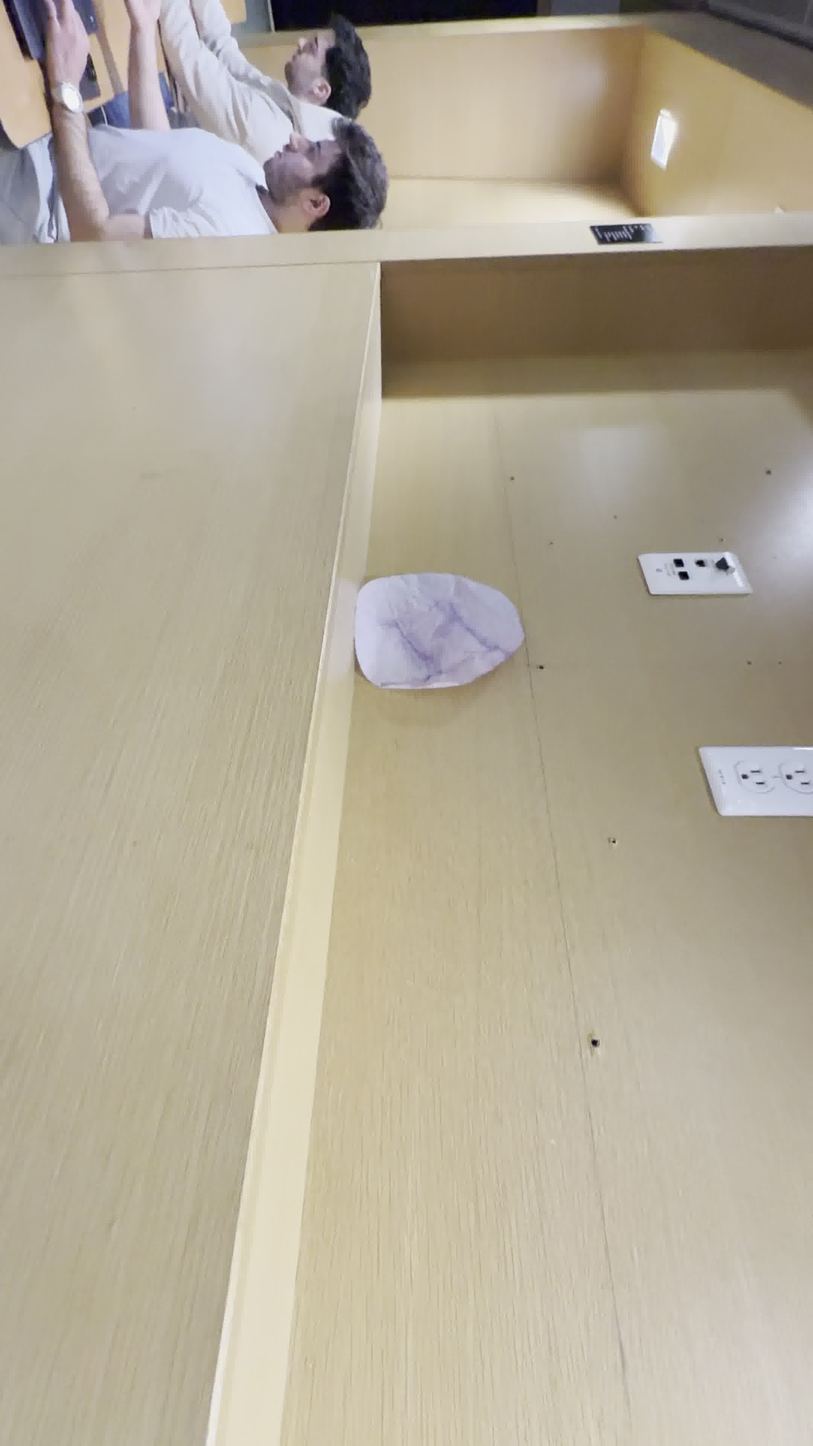Target: (355, 570, 524, 688)
